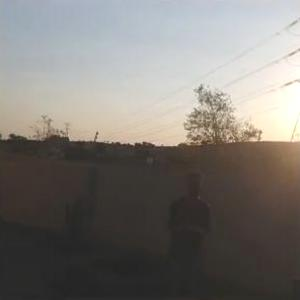follow: (158, 165, 213, 299)
